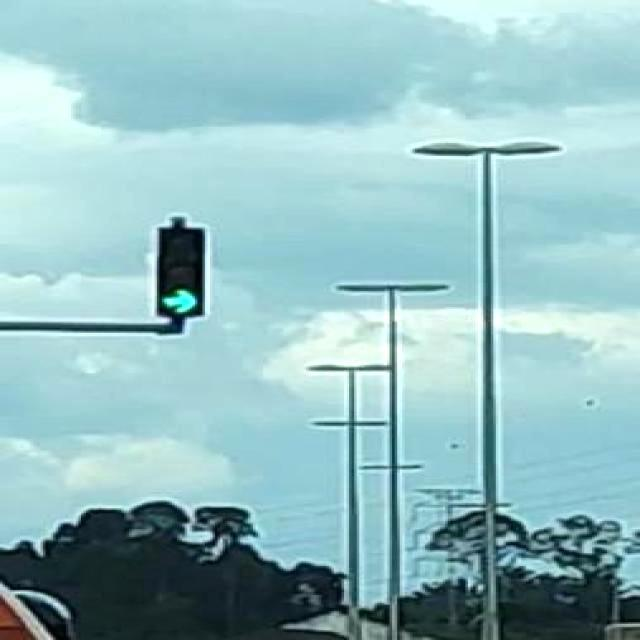Green: (150, 225, 204, 315)
